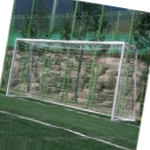goals: (8, 35, 138, 123)
